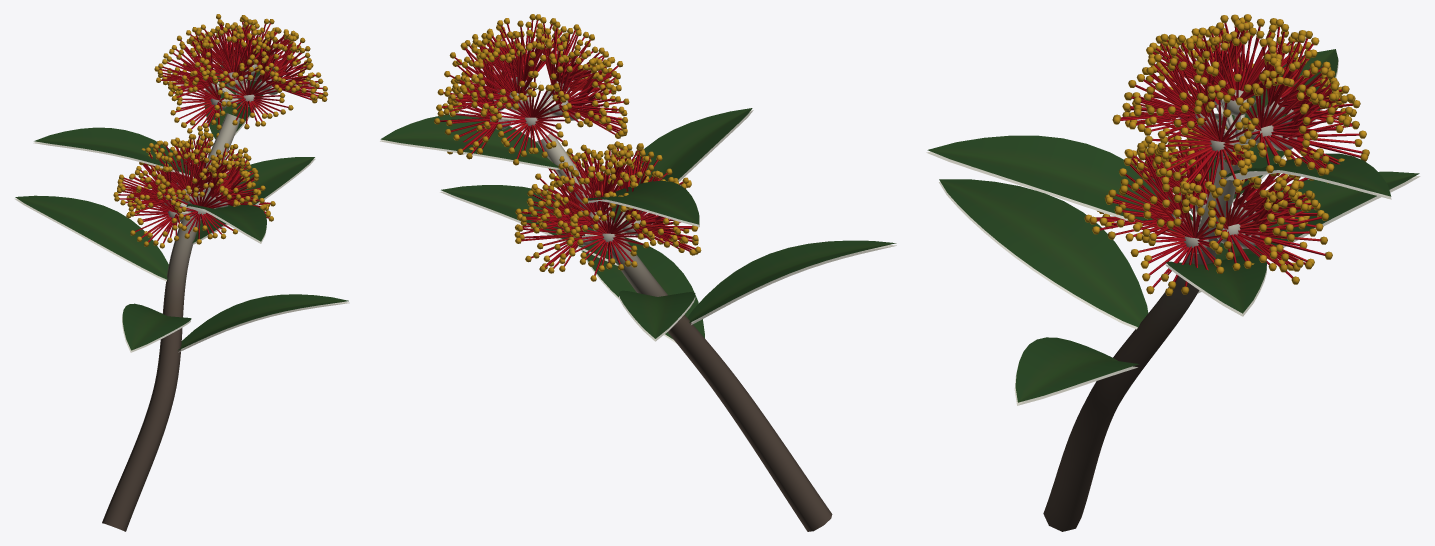
Rendered from manu-pohutukawa.glb.
The picture shows the model from 3 angles, left to right: view 1: azimuth 30°, elevation 25°; view 2: azimuth 150°, elevation 25°; view 3: azimuth 270°, elevation 25°; orthographic projection. The views are drawn at different scales.
Visible parts, largest first — view 1: flowers, leaves, stem; view 2: flowers, leaves, stem; view 3: flowers, leaves, stem.
Boxes of the visible parts, box(x1,y1,x2,y2) form: flowers: box(113, 14, 328, 248); leaves: box(14, 44, 349, 352); stem: box(102, 69, 272, 531); flowers: box(434, 14, 701, 281); leaves: box(380, 108, 896, 343); stem: box(501, 81, 832, 531); flowers: box(1084, 14, 1369, 295); leaves: box(926, 49, 1420, 405); stem: box(1043, 99, 1282, 531).
Size of the model in its own units: 0.0616 by 0.0865 by 0.0611.
